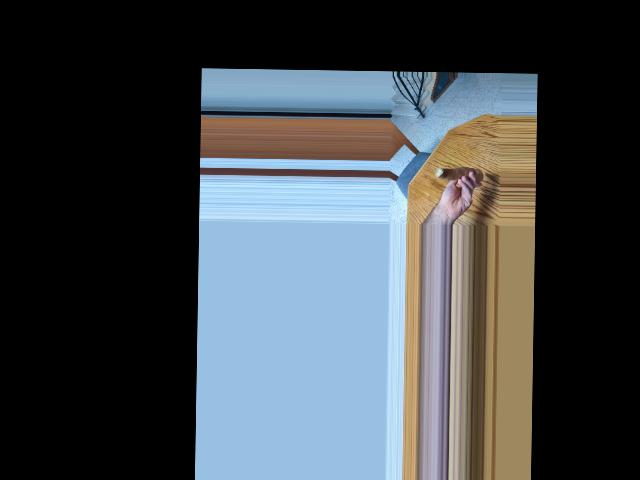sweet_potato: (434, 166, 484, 186)
